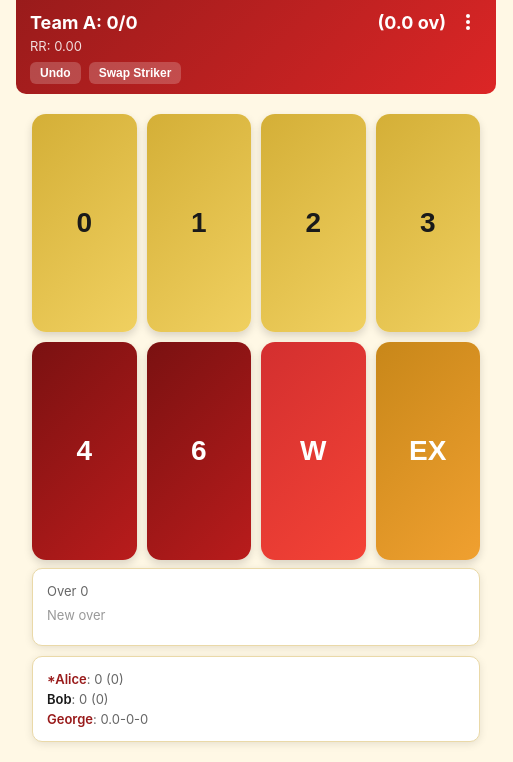
ScoringV2 - scoring core › rotates strike on an odd run
The width and height of the screenshot is (513, 762).
Click the button "1": (199, 223) [146,114,251,332]
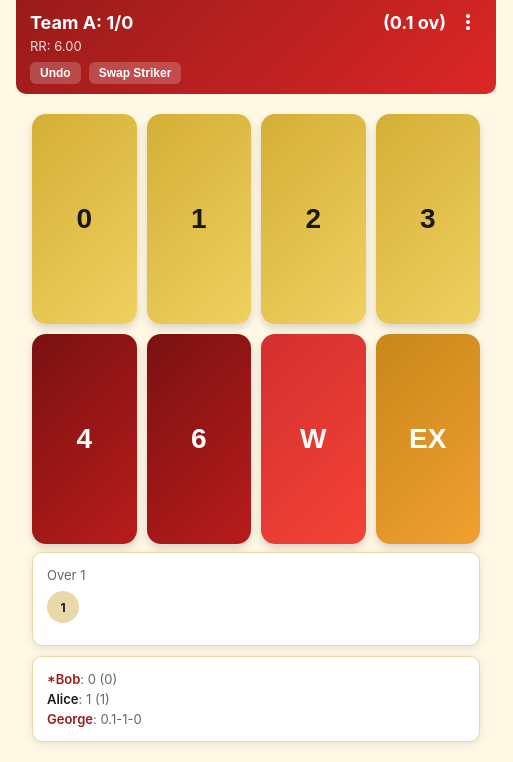
Expected: the text "*Bob" is shown, [47,671,80,687]
